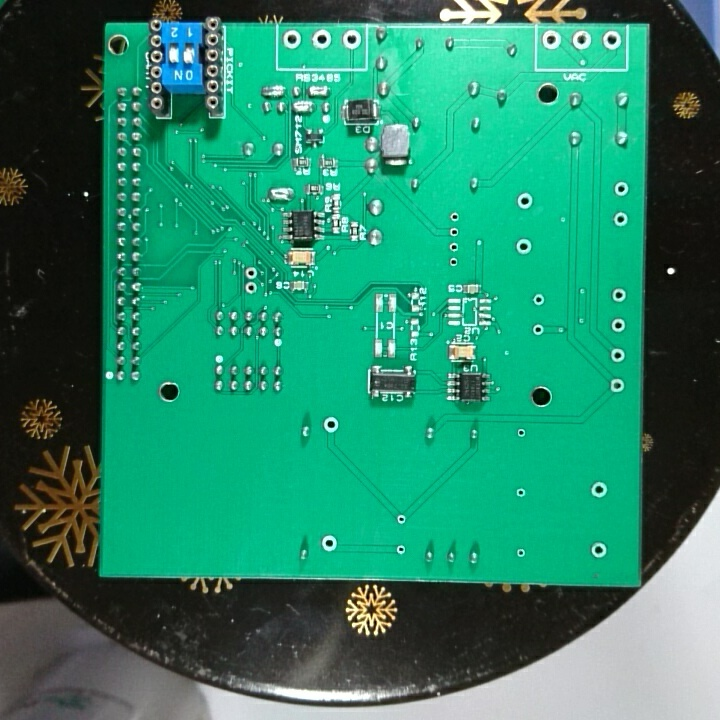F: (539, 27, 563, 53), (310, 28, 335, 52), (600, 27, 623, 52), (570, 27, 592, 53), (281, 28, 304, 52), (340, 27, 362, 52), (588, 478, 611, 500), (514, 189, 536, 212), (319, 533, 341, 555), (321, 412, 341, 436), (513, 235, 534, 257), (608, 375, 629, 396), (588, 539, 608, 561), (608, 346, 628, 367), (611, 209, 631, 230), (608, 315, 628, 335), (609, 286, 628, 306), (612, 178, 629, 200), (243, 264, 262, 280), (242, 279, 261, 295), (528, 322, 545, 339), (513, 423, 528, 442), (530, 291, 547, 307), (447, 253, 461, 272), (446, 209, 462, 225), (446, 224, 462, 240), (512, 546, 529, 561), (513, 484, 528, 501), (447, 239, 462, 255), (394, 542, 408, 558), (394, 512, 408, 527)
P: (265, 183, 297, 203), (304, 81, 334, 100), (289, 98, 318, 117), (259, 82, 287, 100)
